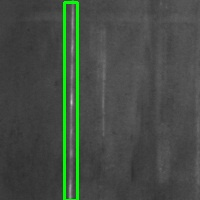scratches: (64, 2, 77, 200)
